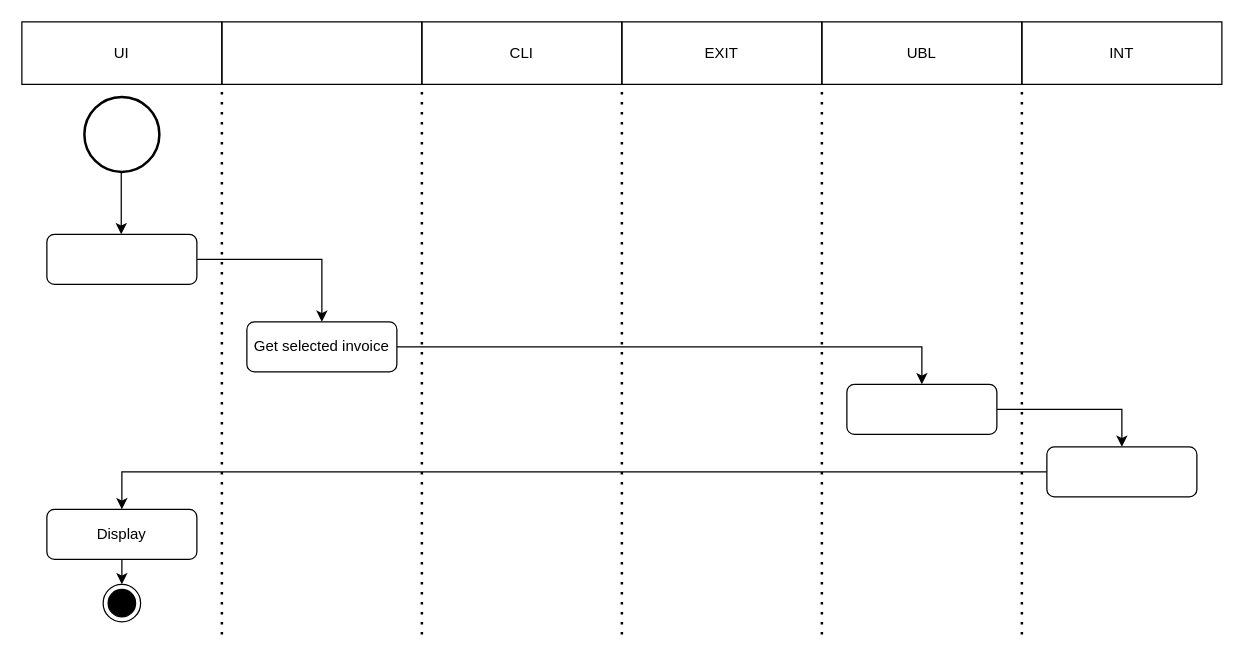
Image size: 1244x659. Some labels were removed from this diagram. Here are the shapes that lost their labels. From the top down, the box of each, then its label:
(221, 21, 422, 84): HOST
(46, 233, 197, 284): List saved invoices
(846, 383, 997, 434): Serialize (Nest)
(1046, 446, 1197, 497): Get preview
